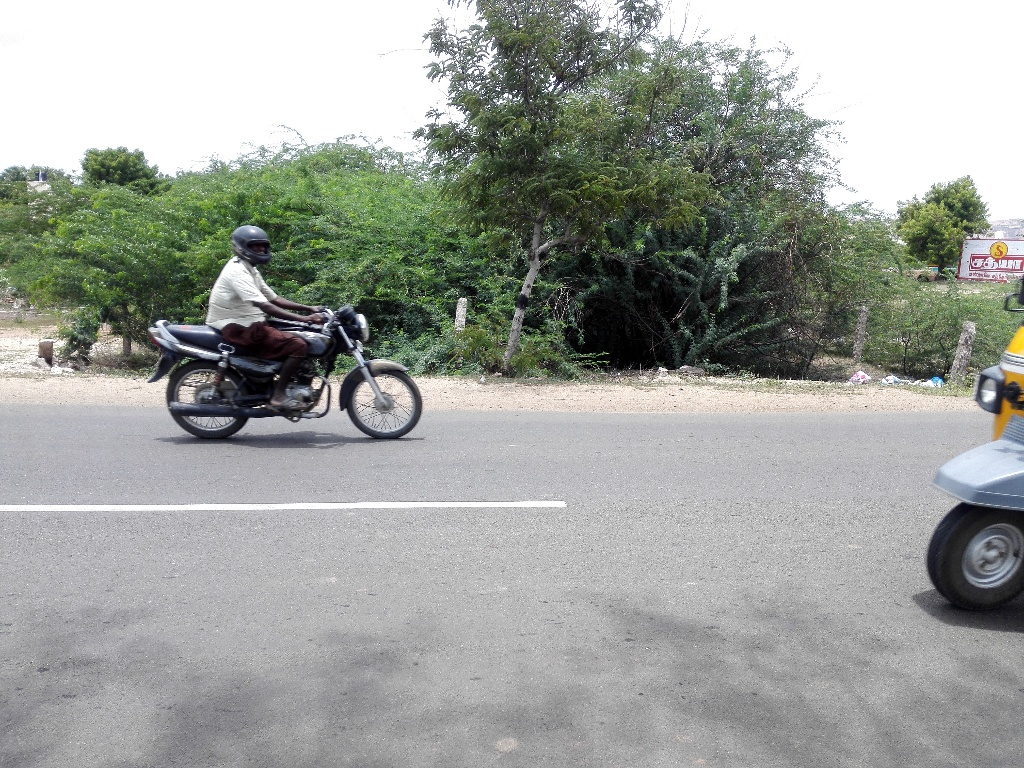biker: (135, 192, 431, 456)
helmet: (225, 212, 283, 278)
